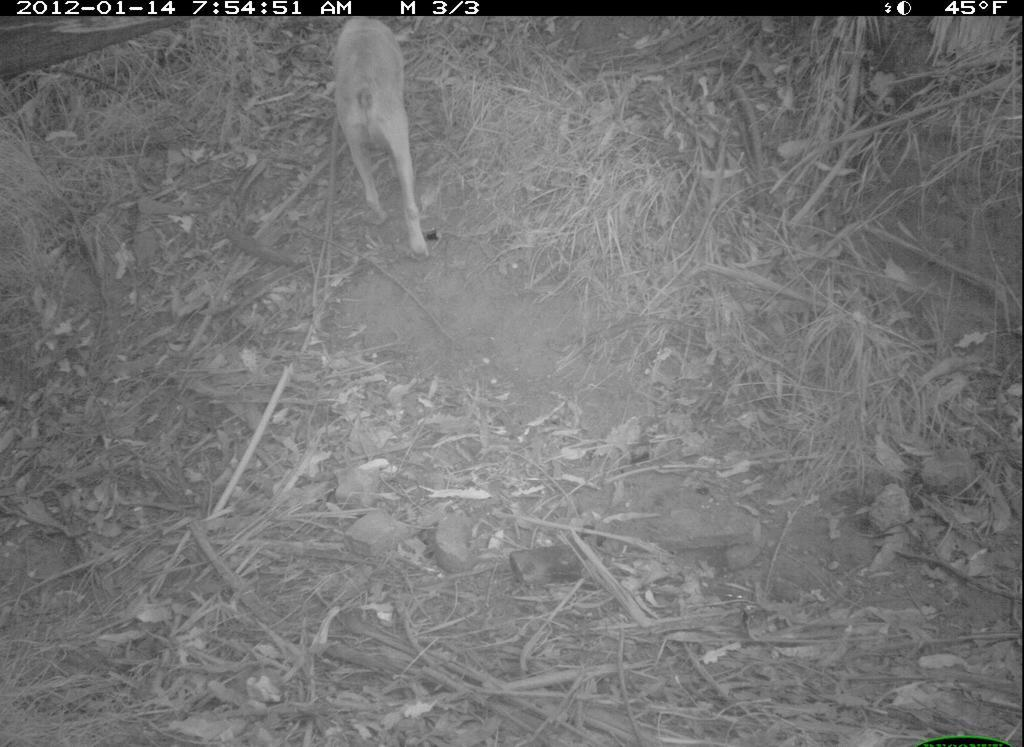dog: (332, 15, 441, 267)
